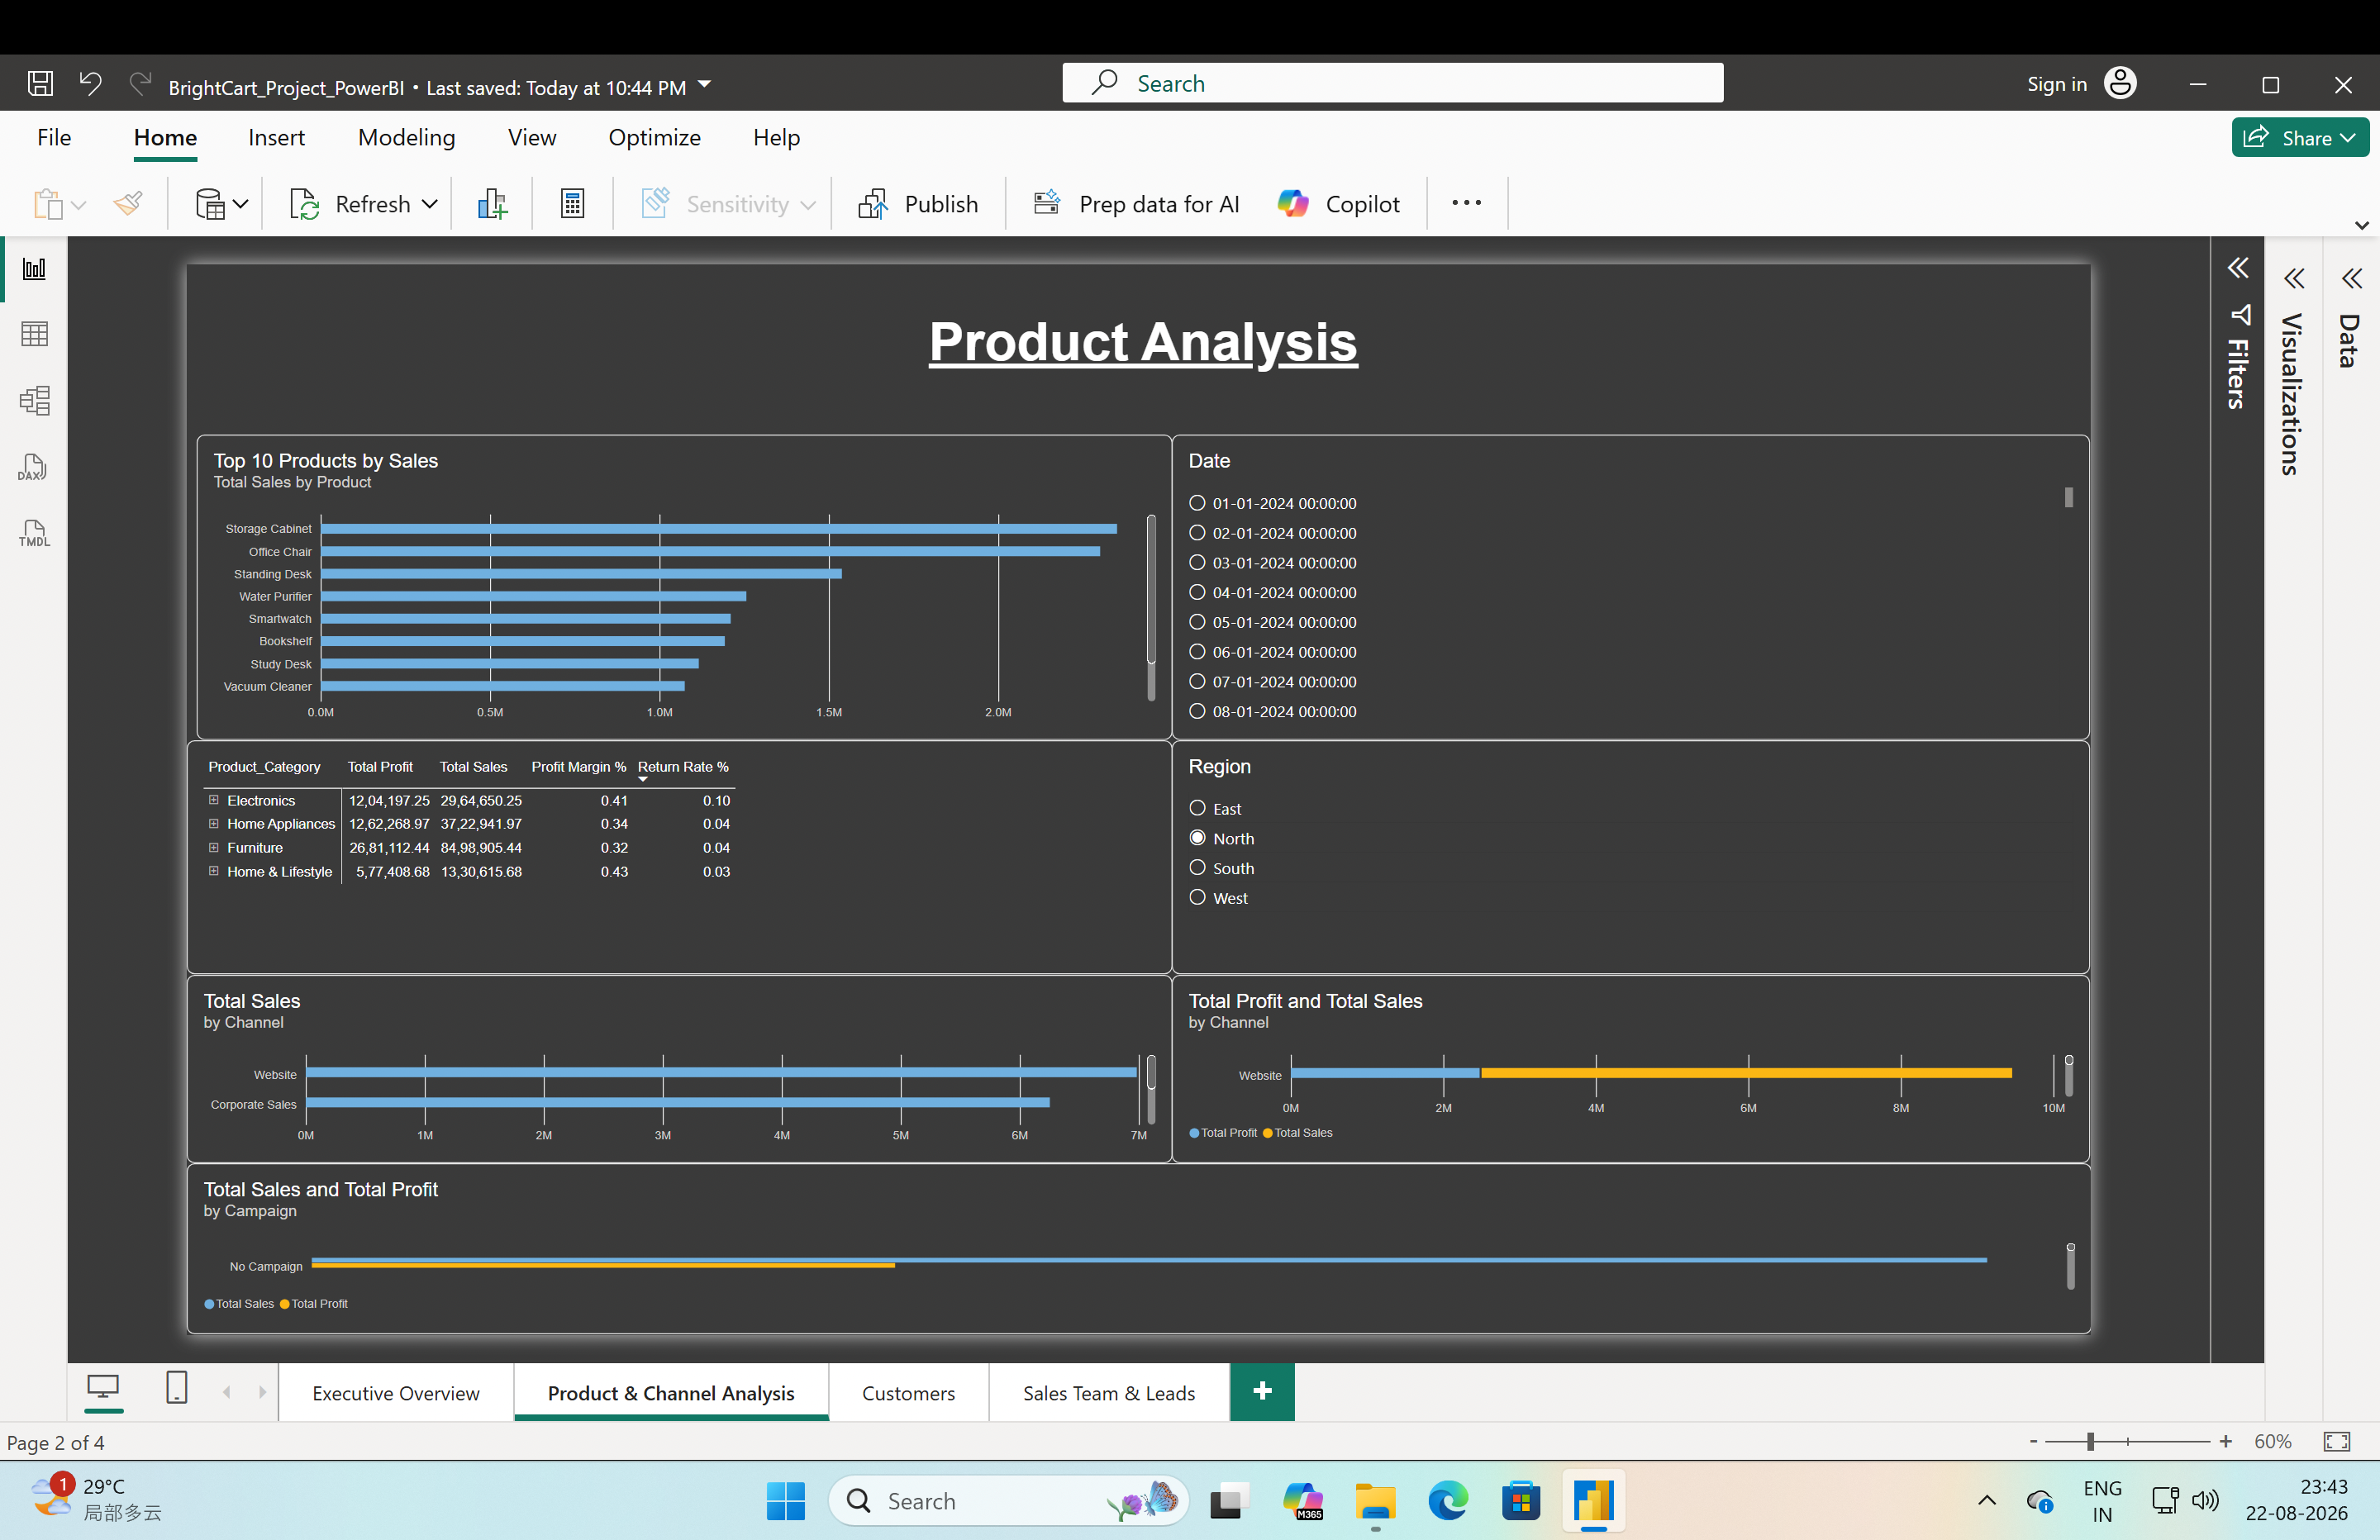

The dashboard page shown, as its layout file describes it:
{"tool":"powerbi","page":{"name":"Product & Channel Analysis","canvas":[1920,1080],"ordinal":1},"visuals":[{"type":"textbox","box":[10,0,1910,172.5],"z":0},{"type":"barChart","title":"Top 10 Products by Sales","fields":{"Category":["ProductMasterTable.Product"],"Y":["SalesTransactionsTable.Total Sales"]},"box":[10,172,984,308],"z":1000},{"type":"pivotTable","fields":{"Rows":["ProductMasterTable.Product_Category","ProductMasterTable.Product"],"Values":["SalesTransactionsTable.Total Profit","SalesTransactionsTable.Total Sales","SalesTransactionsTable.Profit Margin %","SalesTransactionsTable.Return Rate %"]},"box":[0,480,994,236],"z":2000},{"type":"clusteredBarChart","fields":{"Category":["SalesTransactionsTable.Channel"],"Y":["SalesTransactionsTable.Total Sales"]},"box":[0,716,994,190],"z":3000},{"type":"clusteredBarChart","fields":{"Category":["SalesTransactionsTable.Campaign"],"Y":["SalesTransactionsTable.Total Sales","SalesTransactionsTable.Total Profit"]},"box":[0,906.1,1921.2,172.7],"z":4000},{"type":"listSlicer","fields":{"Values":["DateTable.Date"]},"box":[994,172,926,308],"z":5000},{"type":"listSlicer","fields":{"Values":["SalesTransactionsTable.Region"]},"box":[994,480,926,236],"z":6000},{"type":"barChart","fields":{"Y":["SalesTransactionsTable.Total Profit","SalesTransactionsTable.Total Sales"],"Category":["SalesTransactionsTable.Channel"]},"box":[994,716,926,190],"z":7000}]}

Visuals, with their boxes on the page's 1920x1080 design canvas (x1, y1, x2, y2). These are canvas units, not pixel positions in the 2380x1540 screenshot, which may show the page scaled, cropped or inside an application window:
textbox: (left=10, top=0, right=1920, bottom=172)
"Top 10 Products by Sales" barChart: (left=10, top=172, right=994, bottom=480)
pivotTable - ProductMasterTable.Product_Category x ProductMasterTable.Product: (left=0, top=480, right=994, bottom=716)
clusteredBarChart - SalesTransactionsTable.Channel x SalesTransactionsTable.Total Sales: (left=0, top=716, right=994, bottom=906)
clusteredBarChart - SalesTransactionsTable.Campaign x SalesTransactionsTable.Total Sales: (left=0, top=906, right=1921, bottom=1079)
listSlicer - DateTable.Date: (left=994, top=172, right=1920, bottom=480)
listSlicer - SalesTransactionsTable.Region: (left=994, top=480, right=1920, bottom=716)
barChart - SalesTransactionsTable.Total Profit x SalesTransactionsTable.Total Sales: (left=994, top=716, right=1920, bottom=906)
